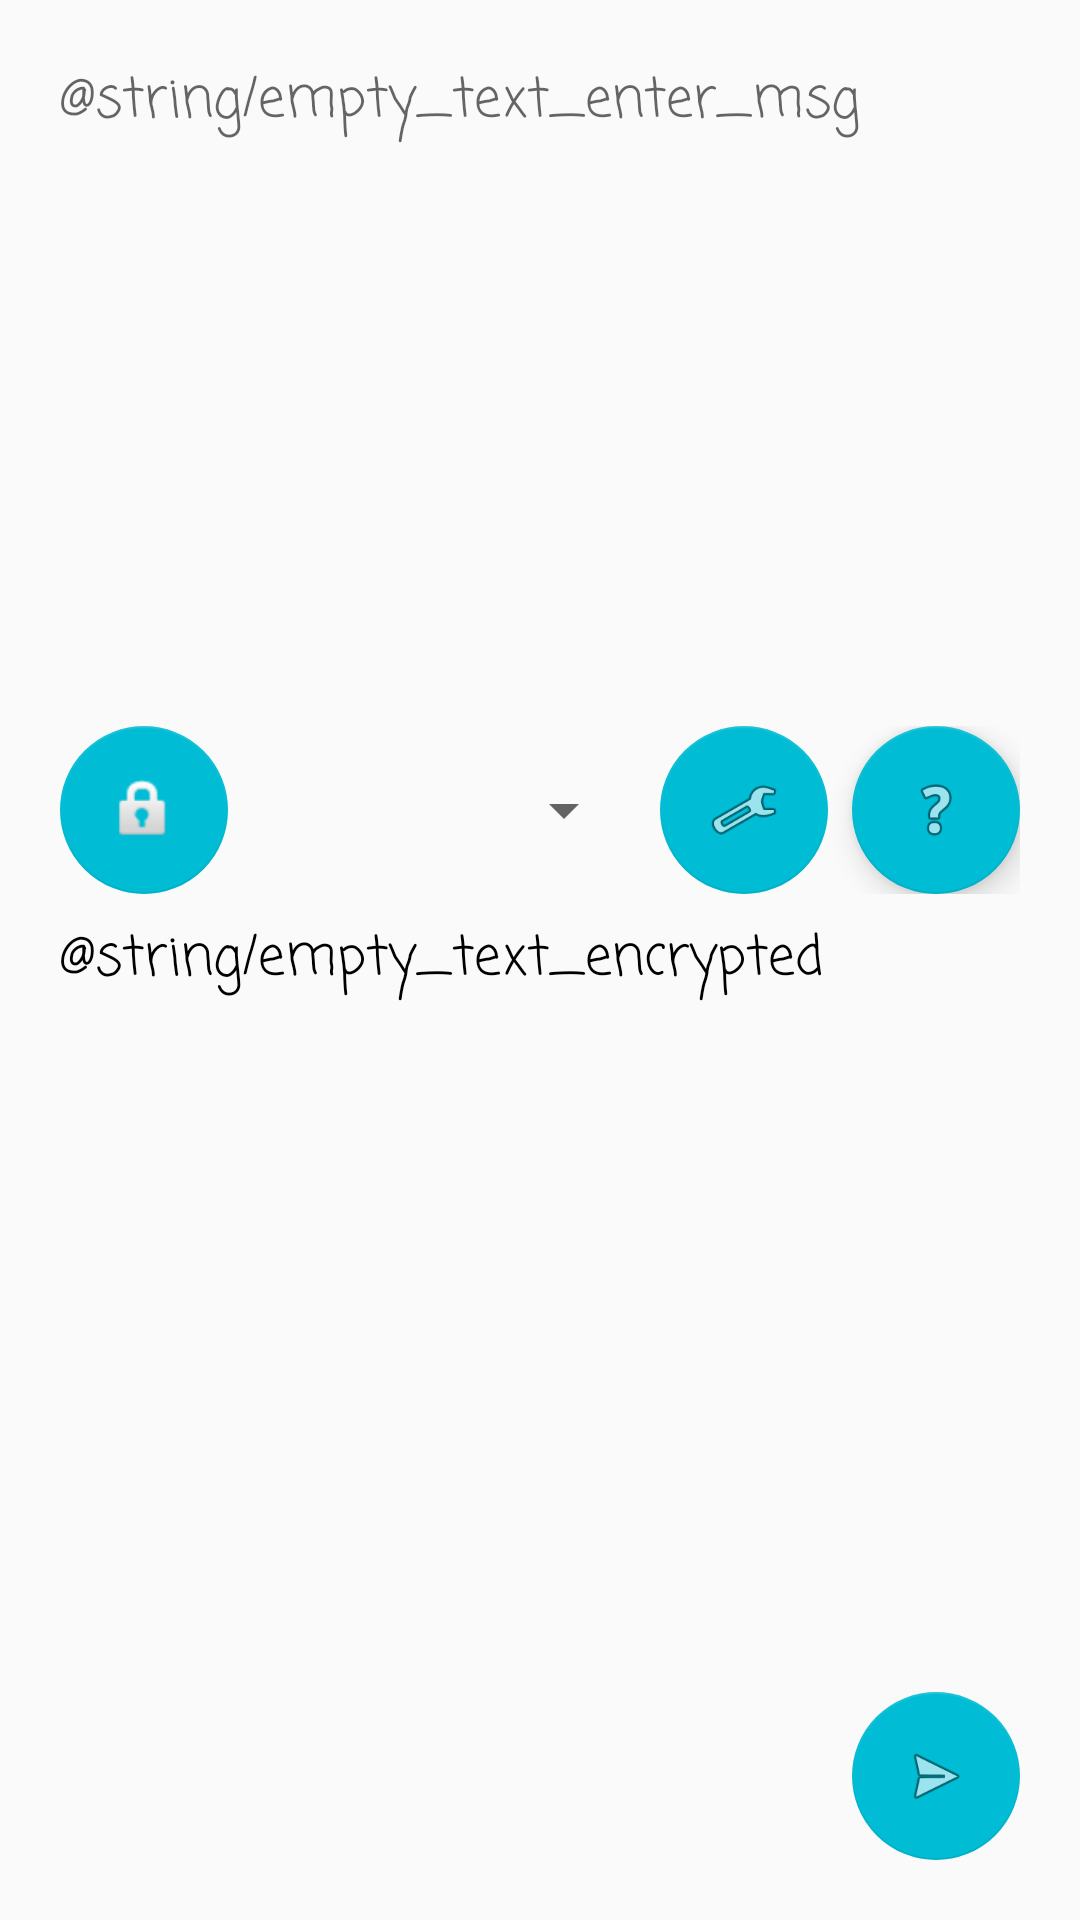

Named icons in this screenshot (1080w x 1920h) and their bounding boxes, (x1, y1, x2, y2):
help: (852, 726, 1020, 894)
lock idle: (60, 726, 228, 894)
manage: (660, 726, 828, 894)
send: (852, 1692, 1020, 1860)
